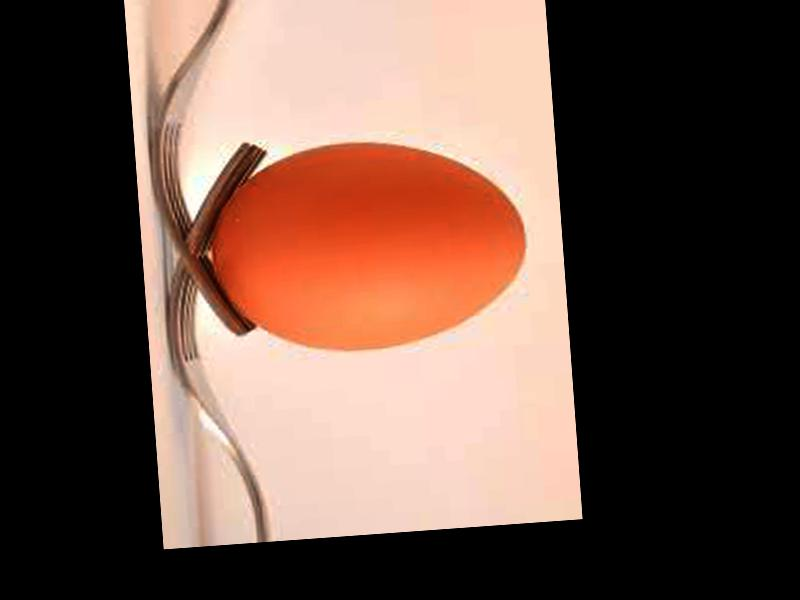Eggs: (205, 132, 531, 360)
